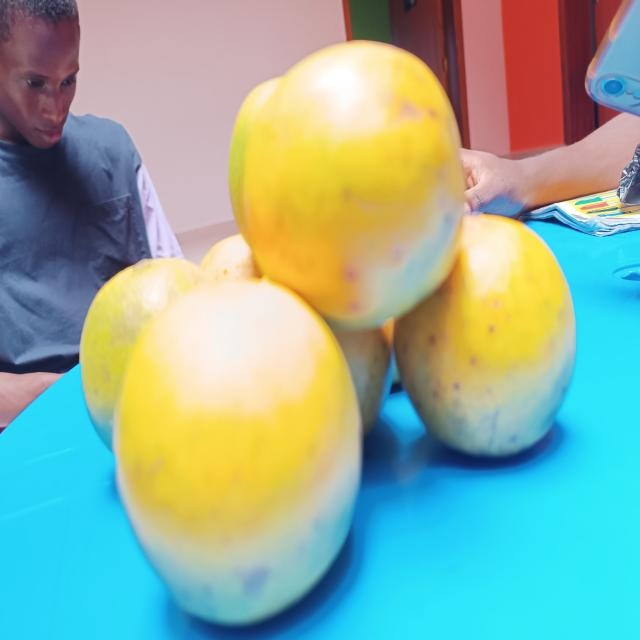agrume: (112, 286, 368, 619), (235, 34, 464, 324), (400, 209, 578, 454), (65, 256, 239, 444)
